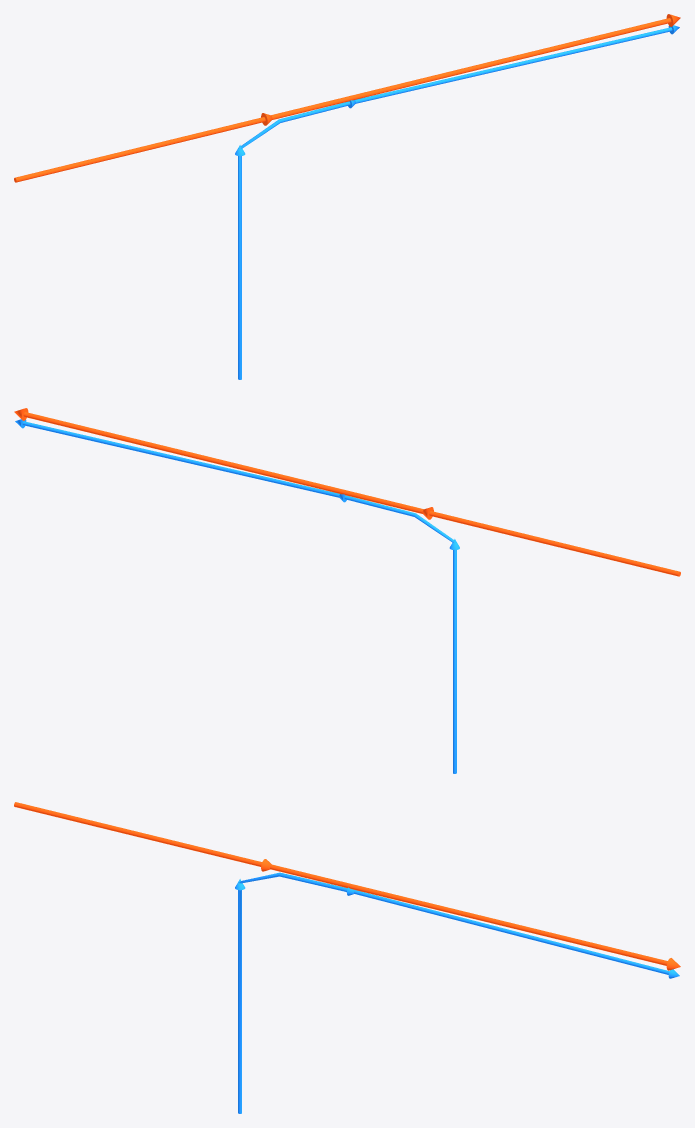
Rendered from jet_pump_eductor_flow.glb.
The picture shows the model from 3 angles, top to bottom: view 1: azimuth 30°, elevation 25°; view 2: azimuth 150°, elevation 25°; view 3: azimuth 330°, elevation 25°; orthographic projection.
Visible parts, largest first — view 1: flow_motive, flow_suction; view 2: flow_motive, flow_suction; view 3: flow_motive, flow_suction.
Boxes of the visible parts, x1,y1,x2,y2 form: flow_motive: [14, 14, 680, 182]; flow_suction: [235, 25, 679, 379]; flow_motive: [14, 408, 680, 576]; flow_suction: [15, 419, 459, 773]; flow_motive: [14, 802, 680, 970]; flow_suction: [235, 872, 679, 1113].
Size of the model in its own units: 1.51 by 0.563 by 0.026.
